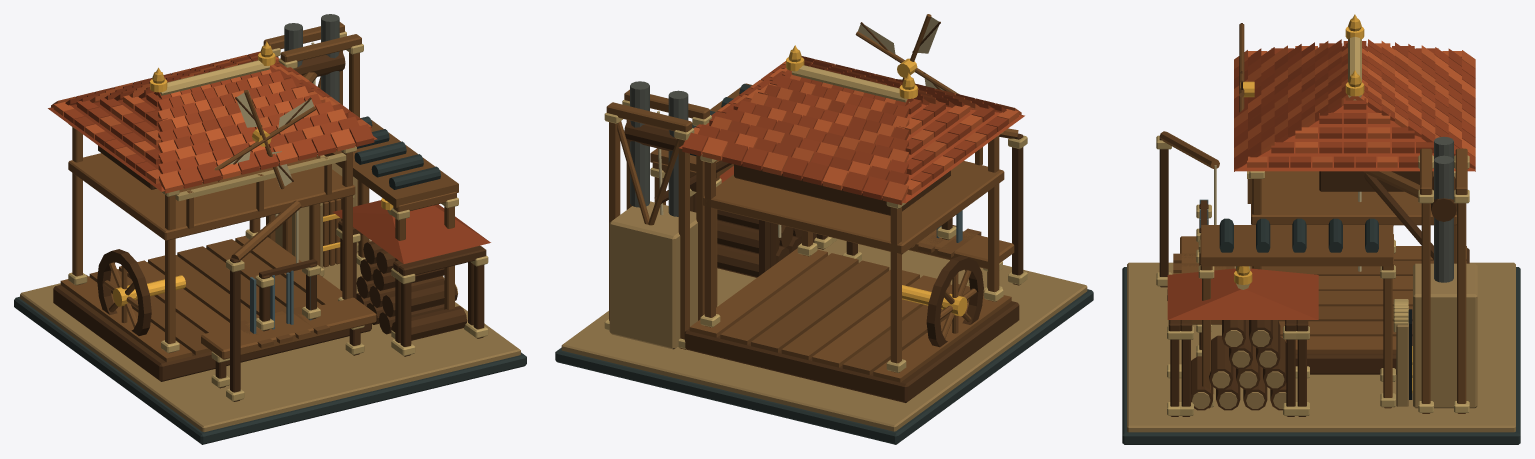
3 views of the same model, side by side, from view 1: azimuth 30°, elevation 25°; view 2: azimuth 150°, elevation 25°; view 3: azimuth 270°, elevation 25° (orthographic). The views are drawn at different scales.
Visible parts, largest first — view 1: lumber_14_structure, lumber_14_metal; view 2: lumber_14_structure, lumber_14_metal; view 3: lumber_14_structure, lumber_14_metal.
Part boxes in pixels (left/top/right/bottom): lumber_14_structure: left=14, top=14, right=526, bottom=444; lumber_14_metal: left=112, top=41, right=393, bottom=306; lumber_14_structure: left=555, top=14, right=1093, bottom=444; lumber_14_metal: left=786, top=45, right=967, bottom=316; lumber_14_structure: left=1122, top=18, right=1520, bottom=444; lumber_14_metal: left=1234, top=14, right=1412, bottom=393.
Bounding box in the file's own units: 5.6 × 4.75 × 5.6.
